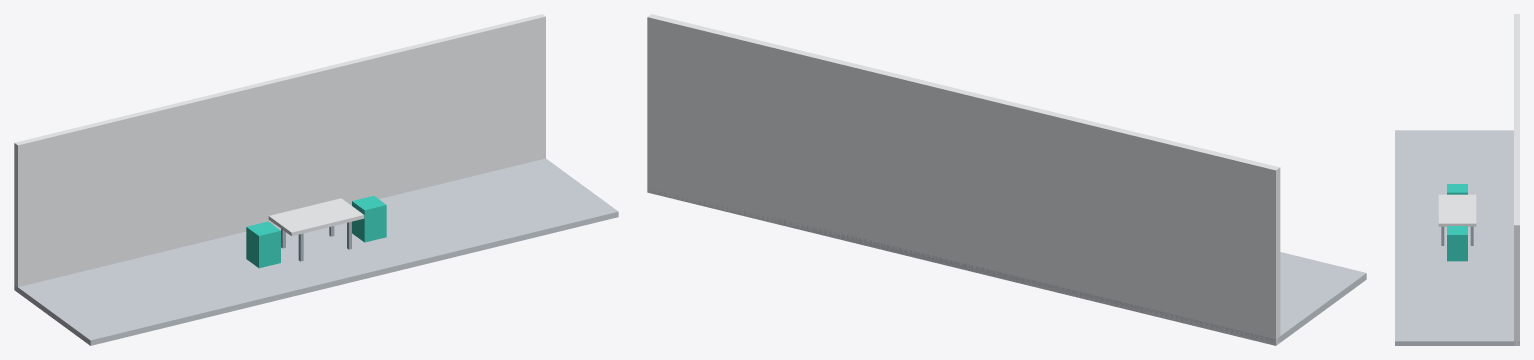
3 renders of one model, left to right at view 1: azimuth 30°, elevation 25°; view 2: azimuth 150°, elevation 25°; view 3: azimuth 270°, elevation 25°, orthographic. The views are drawn at different scales.
Visible parts, largest first — view 1: Exhibition Booth Concept; view 2: Exhibition Booth Concept; view 3: Exhibition Booth Concept.
Part boxes in pixels (left/top/right/bottom): Exhibition Booth Concept: left=14, top=14, right=618, bottom=345; Exhibition Booth Concept: left=647, top=14, right=1366, bottom=345; Exhibition Booth Concept: left=1395, top=14, right=1519, bottom=345.
Size of the model in its own units: 12 by 3.2 by 3.
